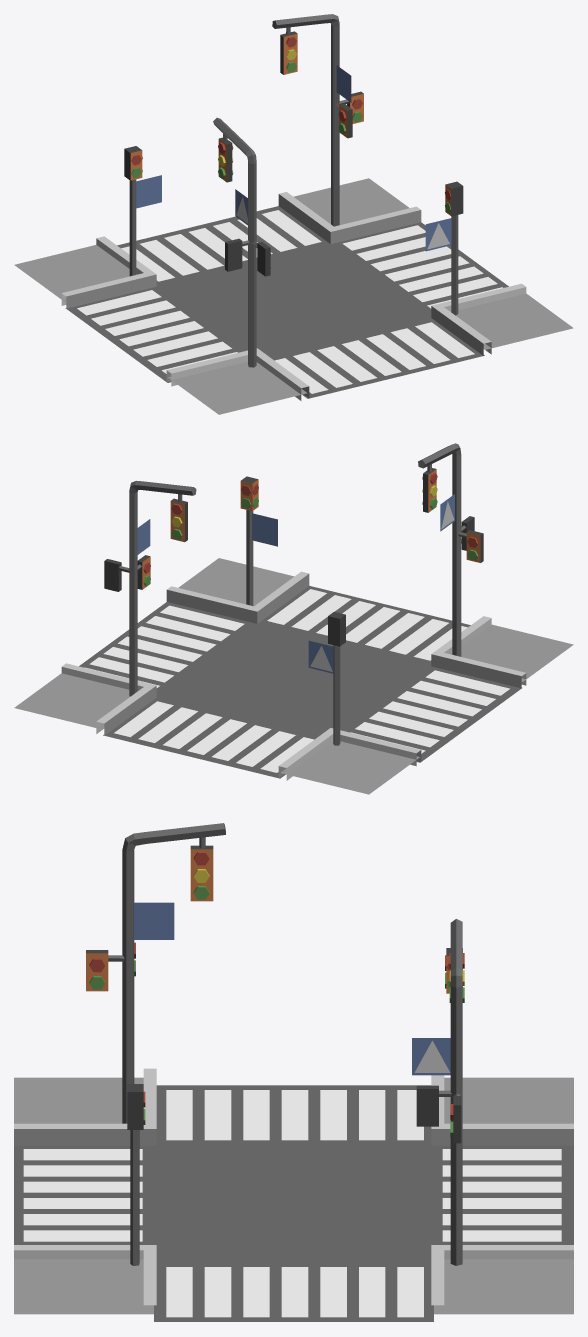
Rendered from street-four-transformed.glb.
The picture shows the model from 3 angles, top to bottom: view 1: azimuth 30°, elevation 25°; view 2: azimuth 150°, elevation 25°; view 3: azimuth 270°, elevation 25°; orthographic projection. The views are drawn at different scales.
Visible parts, largest first — view 1: city_private_houses.002; view 2: city_private_houses.002; view 3: city_private_houses.002.
Part boxes in pixels (left/top/right/bottom): city_private_houses.002: left=14, top=14, right=573, bottom=414; city_private_houses.002: left=14, top=443, right=573, bottom=794; city_private_houses.002: left=14, top=823, right=573, bottom=1321.
Bounding box in the file's own units: 8 × 4.93 × 8.
Materials: 1 (1 with a texture image).
